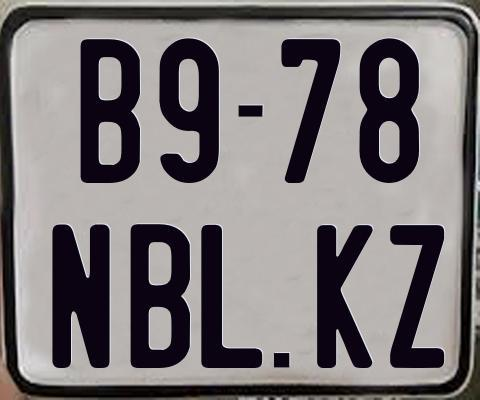7: (279, 36, 341, 184)
8: (357, 36, 421, 184)
9: (157, 38, 222, 184)
B: (80, 36, 146, 186), (127, 224, 188, 372)
K: (317, 225, 373, 371)
L: (200, 223, 266, 367)
N: (49, 224, 111, 374)
Z: (390, 224, 449, 369)
